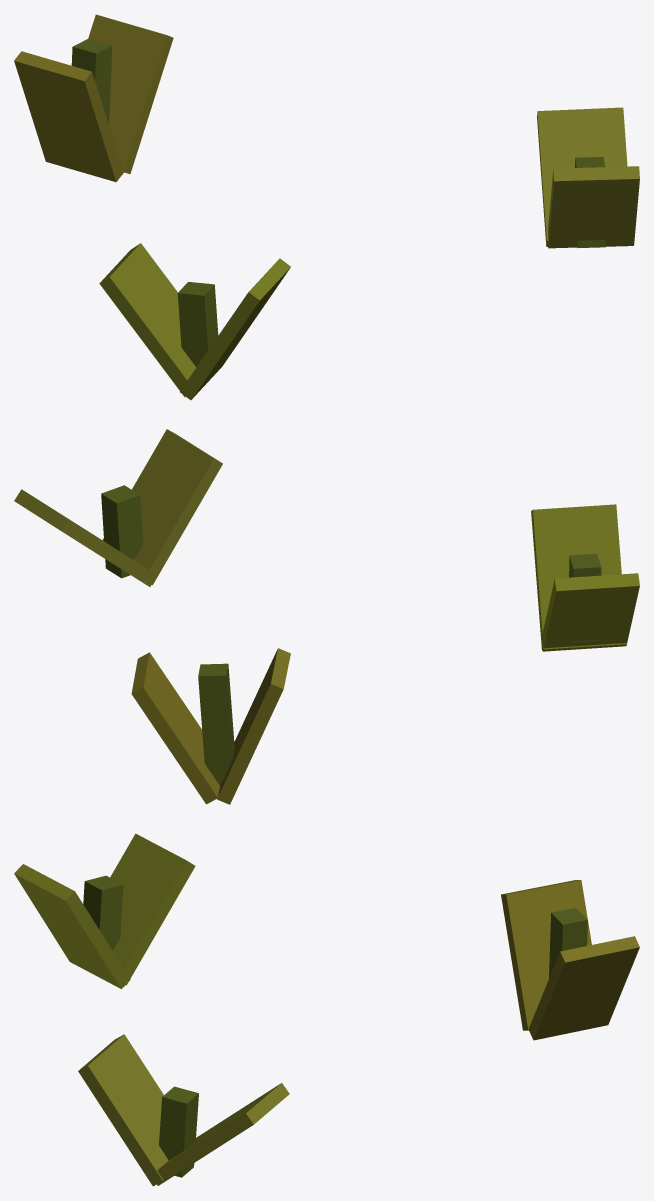
Rendered from barleystage1.glb.
The picture shows the model from 3 angles, top to bottom: view 1: azimuth 30°, elevation 25°; view 2: azimuth 150°, elevation 25°; view 3: azimuth 270°, elevation 25°; orthographic projection. The views are drawn at different scales.
Parts seen in each view (by area): view 1: Cube.007; view 2: Cube.007; view 3: Cube.007.
Boxes of the visible parts, box(x1,y1,x2,y2) form: Cube.007: box(14, 14, 639, 400); Cube.007: box(14, 429, 639, 804); Cube.007: box(14, 833, 639, 1186).
Bounding box in the file's own units: 0.7076 × 0.1538 × 0.6853.
